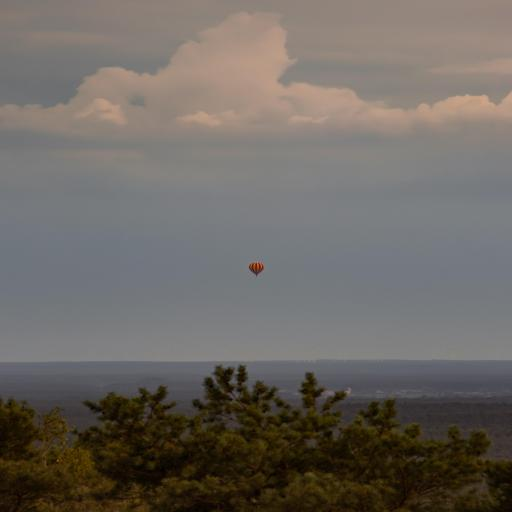hot air ballon: (246, 256, 272, 282)
